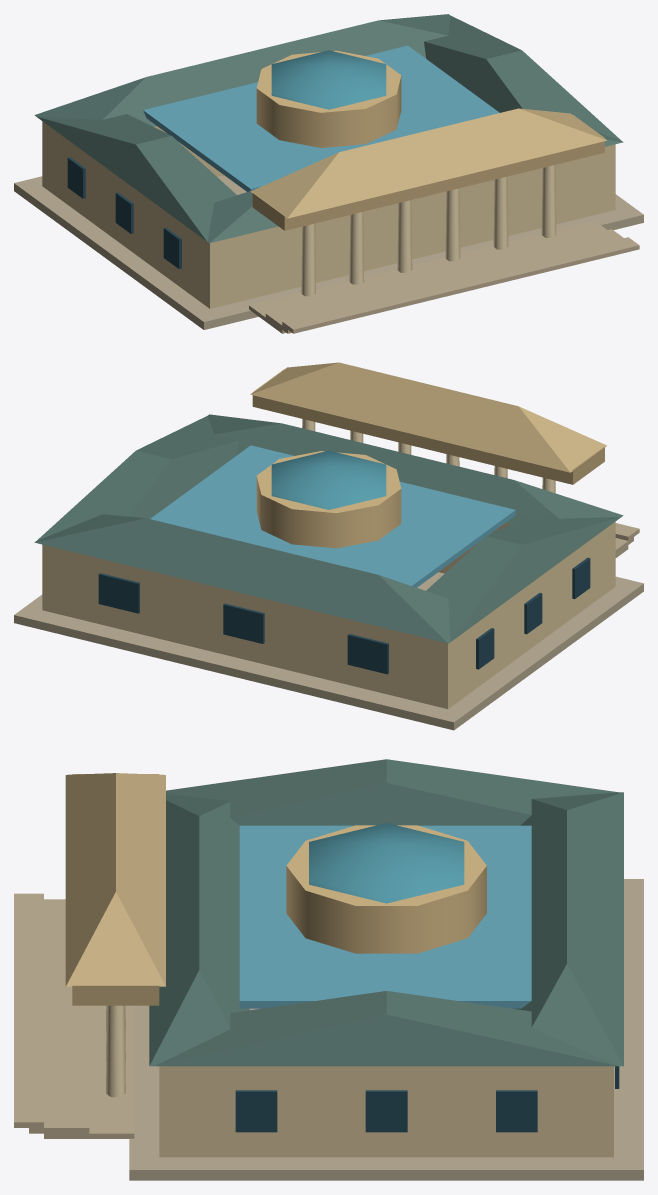
The model's file is british-museum.glb.
3 views of the same model, one above another, from view 1: azimuth 30°, elevation 25°; view 2: azimuth 150°, elevation 25°; view 3: azimuth 270°, elevation 25° (orthographic). The views are drawn at different scales.
Visible parts, largest first — view 1: roof_9BA9A6, body_D8D2BE, roof_C1B79E, glass_court_A9C1BE, base_BCB49B, base_B8B49D, reading_room_C1B496, body_DCD5C1, reading_room_A8B9AF, body_CEC5AD, detail_6B6A5B; view 2: roof_9BA9A6, body_D8D2BE, glass_court_A9C1BE, roof_C1B79E, base_B8B49D, reading_room_C1B496, detail_6B6A5B, reading_room_A8B9AF, body_CEC5AD, body_DCD5C1, base_BCB49B; view 3: roof_9BA9A6, body_D8D2BE, glass_court_A9C1BE, base_B8B49D, roof_C1B79E, base_BCB49B, reading_room_C1B496, reading_room_A8B9AF, detail_6B6A5B, body_CEC5AD, body_DCD5C1.
Boxes of the visible parts, x1=… form: roof_9BA9A6: x1=34, y1=14, x2=623, y2=243; body_D8D2BE: x1=42, y1=121, x2=615, y2=308; roof_C1B79E: x1=250, y1=108, x2=607, y2=218; glass_court_A9C1BE: x1=143, y1=45, x2=499, y2=191; base_BCB49B: x1=249, y1=221, x2=639, y2=333; base_B8B49D: x1=14, y1=175, x2=643, y2=329; reading_room_C1B496: x1=256, y1=50, x2=401, y2=147; body_DCD5C1: x1=301, y1=165, x2=556, y2=296; reading_room_A8B9AF: x1=271, y1=50, x2=386, y2=109; body_CEC5AD: x1=252, y1=115, x2=604, y2=230; detail_6B6A5B: x1=67, y1=157, x2=181, y2=269; roof_9BA9A6: x1=34, y1=414, x2=623, y2=643; body_D8D2BE: x1=42, y1=521, x2=615, y2=708; glass_court_A9C1BE: x1=150, y1=445, x2=515, y2=587; roof_C1B79E: x1=250, y1=362, x2=606, y2=472; base_B8B49D: x1=14, y1=572, x2=643, y2=730; reading_room_C1B496: x1=256, y1=451, x2=401, y2=548; detail_6B6A5B: x1=98, y1=557, x2=590, y2=674; reading_room_A8B9AF: x1=271, y1=450, x2=386, y2=509; body_CEC5AD: x1=252, y1=369, x2=604, y2=484; body_DCD5C1: x1=302, y1=419, x2=555, y2=493; base_BCB49B: x1=615, y1=523, x2=639, y2=557; roof_9BA9A6: x1=149, y1=759, x2=623, y2=1066; body_D8D2BE: x1=159, y1=1066, x2=613, y2=1157; glass_court_A9C1BE: x1=239, y1=825, x2=531, y2=1008; base_B8B49D: x1=129, y1=879, x2=643, y2=1180; roof_C1B79E: x1=65, y1=773, x2=165, y2=986; base_BCB49B: x1=14, y1=893, x2=134, y2=1138; reading_room_C1B496: x1=286, y1=825, x2=486, y2=953; reading_room_A8B9AF: x1=309, y1=823, x2=464, y2=903; detail_6B6A5B: x1=235, y1=1066, x2=619, y2=1132; body_CEC5AD: x1=72, y1=774, x2=159, y2=1005; body_DCD5C1: x1=106, y1=1005, x2=125, y2=1097.
Bounding box in the file's own units: 1 × 0.3252 × 0.915.
